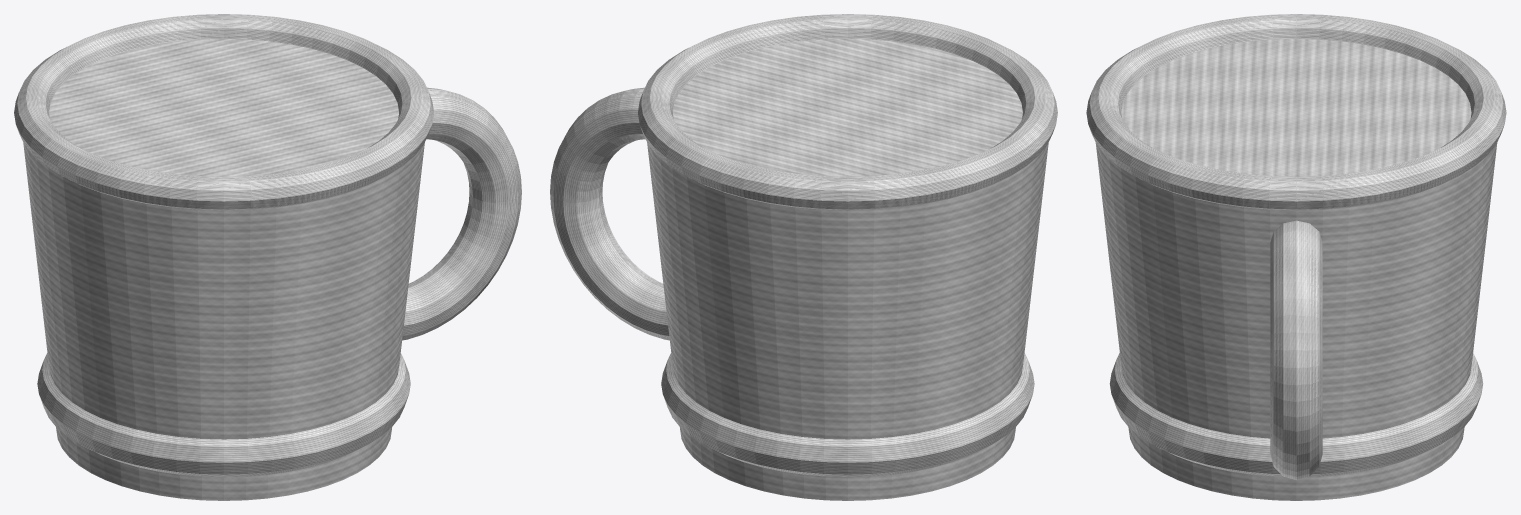
File: cup_variant_c.glb
3 views of the same model, side by side, from view 1: azimuth 30°, elevation 25°; view 2: azimuth 150°, elevation 25°; view 3: azimuth 270°, elevation 25° (orthographic).
Parts seen in each view (by area): view 1: Insulated cup shell, Insulated cup rim, Insulated grip band, Insulated cup handle; view 2: Insulated cup shell, Insulated cup rim, Insulated grip band, Insulated cup handle; view 3: Insulated cup shell, Insulated cup rim, Insulated cup handle, Insulated grip band.
Part boxes in pixels (x1=…): Insulated cup shell: x1=23, y1=38, x2=424, y2=500; Insulated cup rim: x1=14, y1=14, x2=433, y2=210; Insulated grip band: x1=37, y1=353, x2=410, y2=477; Insulated cup handle: x1=402, y1=87, x2=521, y2=340; Insulated cup shell: x1=647, y1=38, x2=1048, y2=500; Insulated cup rim: x1=638, y1=14, x2=1057, y2=210; Insulated grip band: x1=661, y1=353, x2=1034, y2=477; Insulated cup handle: x1=550, y1=87, x2=669, y2=340; Insulated cup shell: x1=1095, y1=38, x2=1497, y2=500; Insulated cup rim: x1=1086, y1=14, x2=1506, y2=210; Insulated cup handle: x1=1270, y1=220, x2=1322, y2=479; Insulated grip band: x1=1109, y1=353, x2=1483, y2=476.
Size of what is drawn, in the model's own units: 0.377 by 0.2514 by 0.288.
4 materials, 4 textured.
